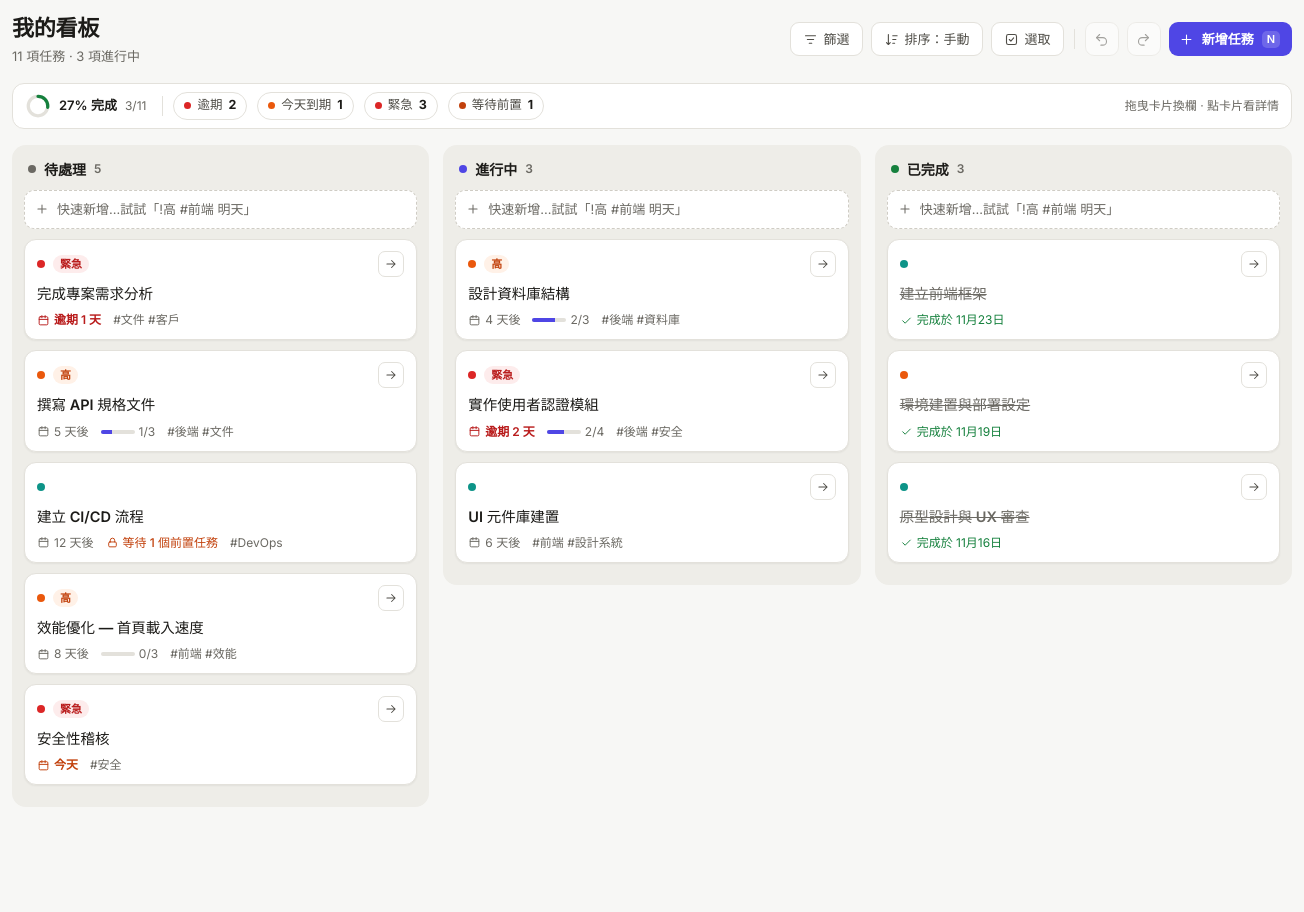
Test: BoardView › batch mode: select two cards, 刪除 sends one batch delete and clears the selection
Click the button "選取" at coordinates (1027, 39), box [991,22,1064,56]
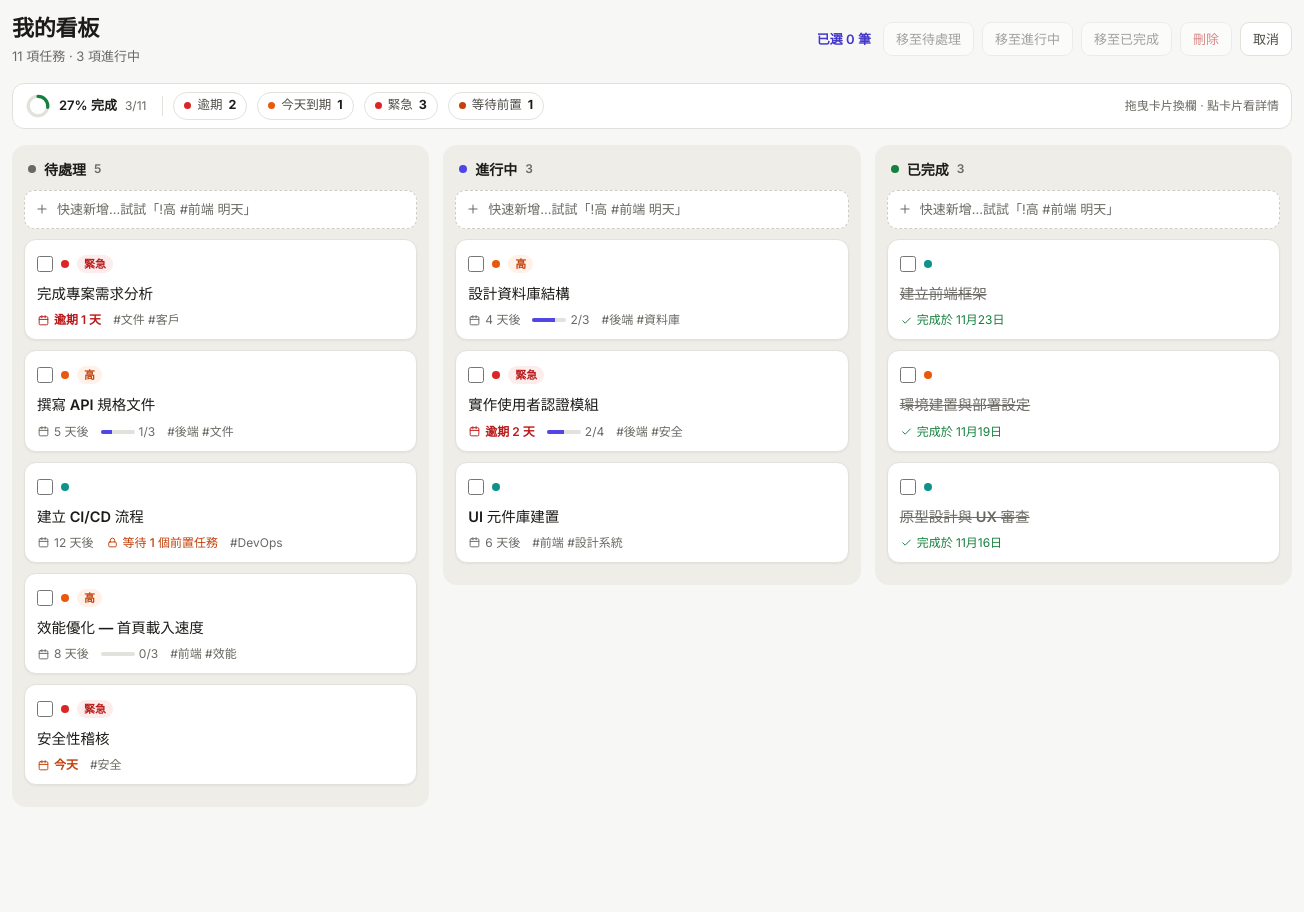
Click the checkbox named "選取：完成專案需求分析" at coordinates (45, 264), box [37,256,53,272]
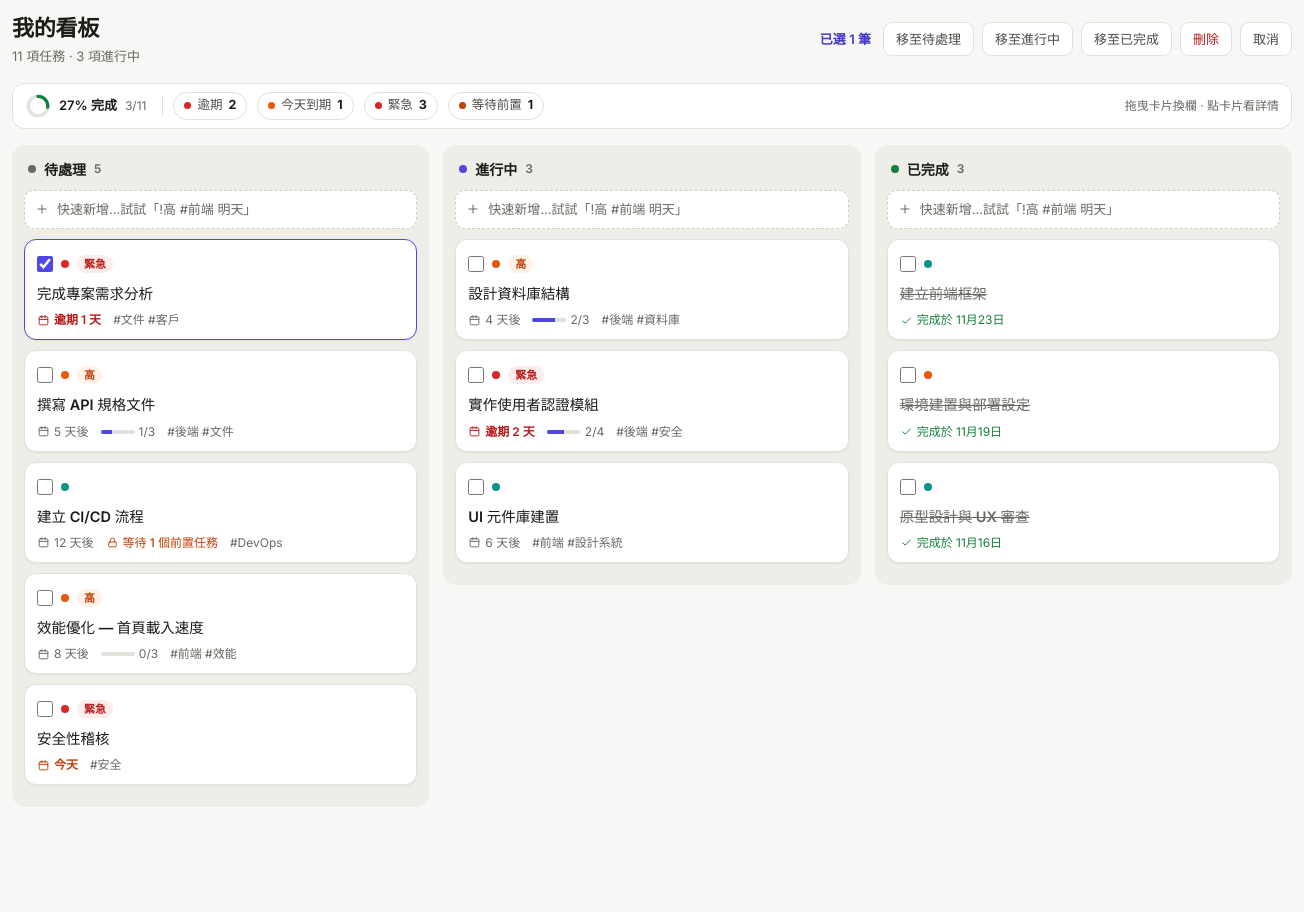
Click the checkbox named "選取：安全性稽核" at coordinates (45, 709), box [37,701,53,717]
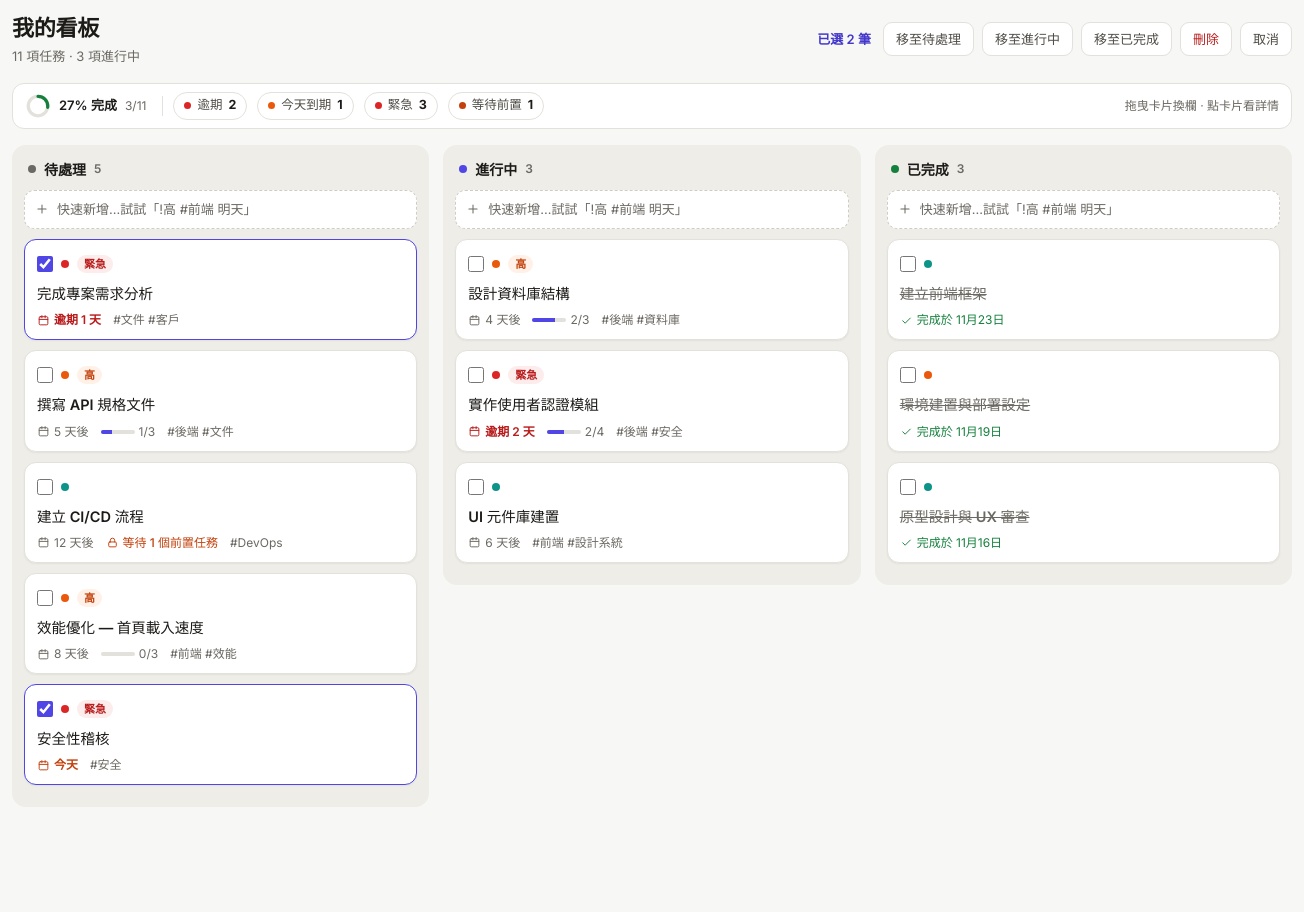
expect the text "已選 2 筆" is shown: met, box [813,30,875,49]
Click the button "刪除" at coordinates (1206, 39), box [1180,22,1232,56]
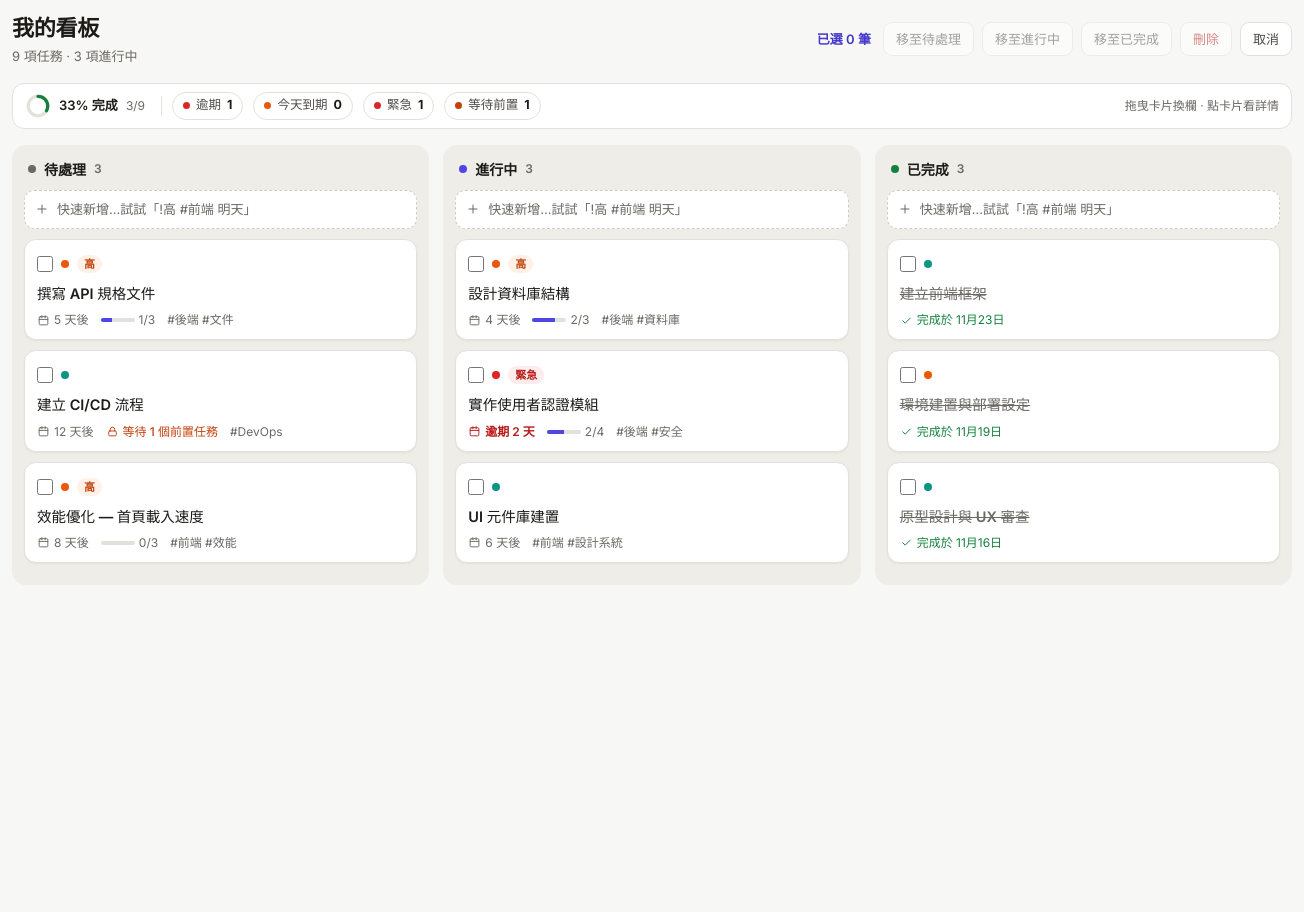
expect the text "已選 0 筆" is shown: met, box [813,30,875,49]
expect the button "完成專案需求分析" is gone: met
Click the button "取消" at coordinates (1266, 39), box [1240,22,1292,56]
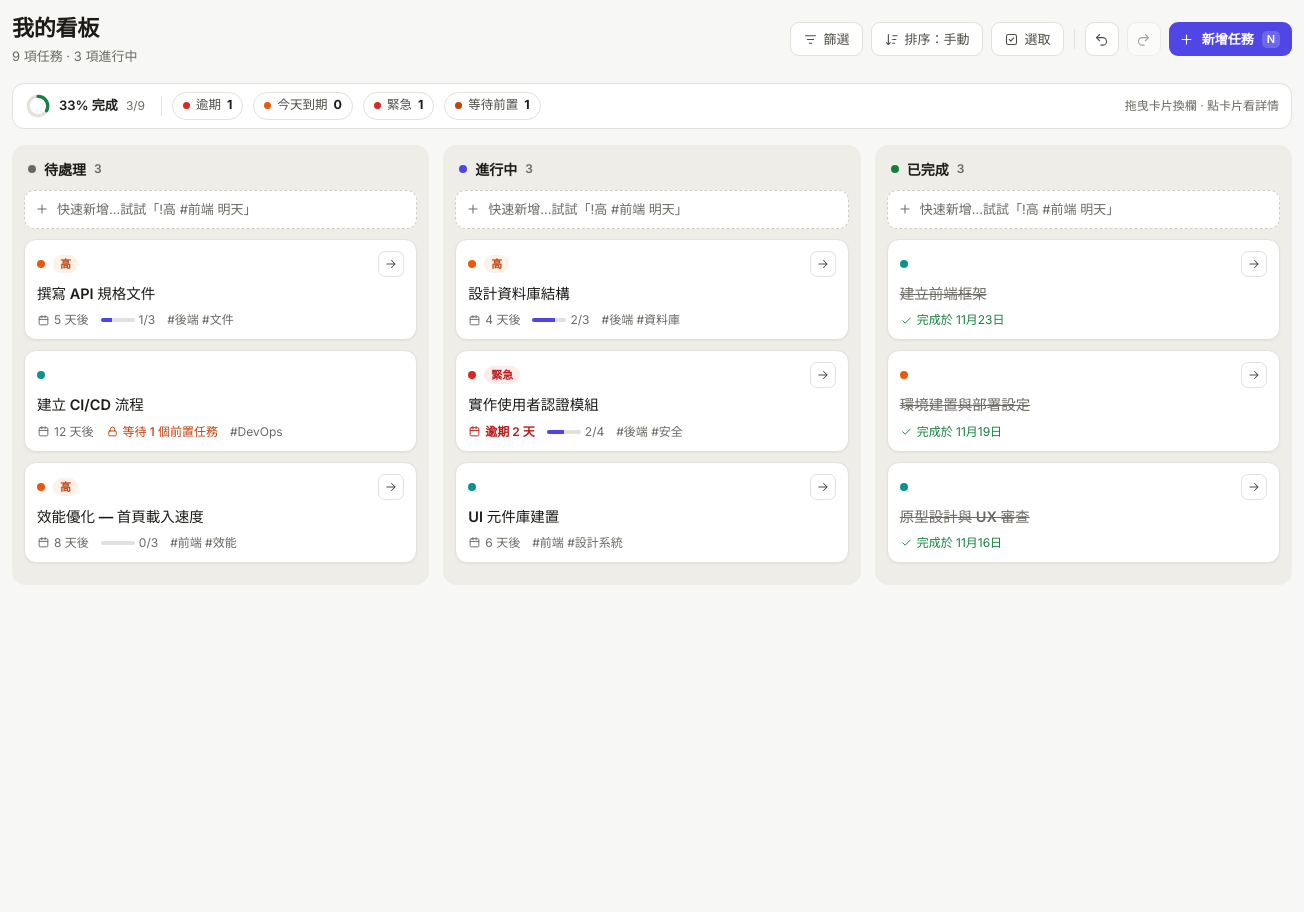
expect the button "選取" is shown: met, box [991,22,1064,56]
